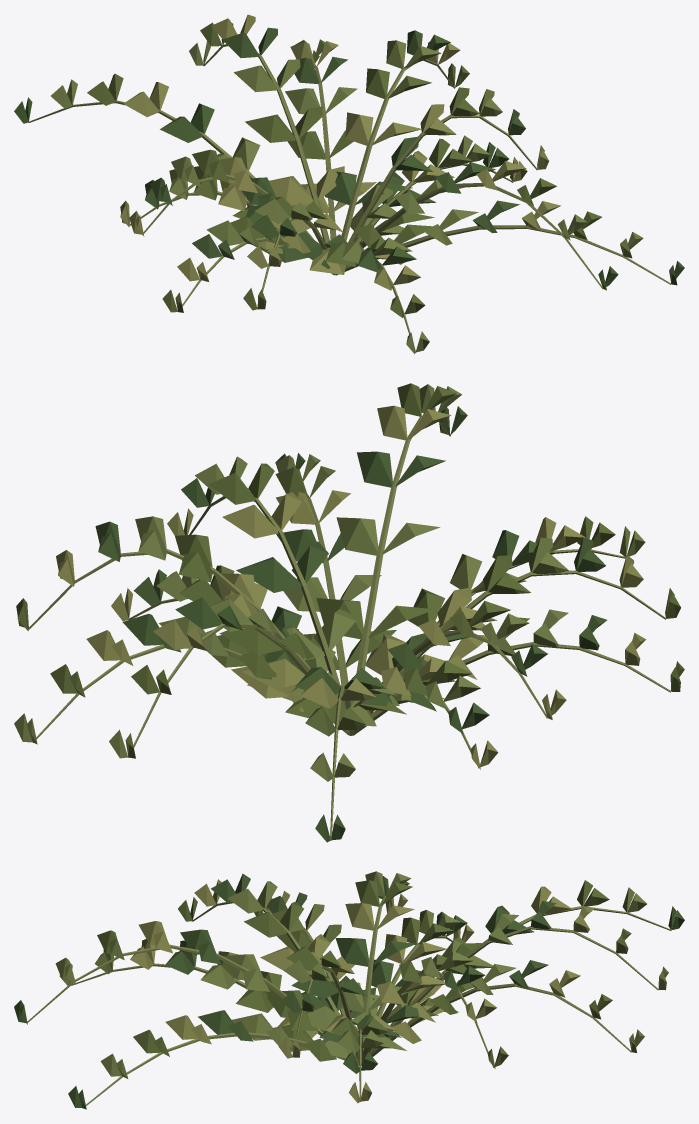
Rendered from understory.glb.
3 renders of one model, top to bottom at view 1: azimuth 30°, elevation 25°; view 2: azimuth 150°, elevation 25°; view 3: azimuth 270°, elevation 25°, orthographic. The views are drawn at different scales.
Parts seen in each view (by area): view 1: forest fern cluster; view 2: forest fern cluster; view 3: forest fern cluster.
Part boxes in pixels (box(x1,y1,x2,y2)): forest fern cluster: box(14, 14, 684, 354); forest fern cluster: box(14, 383, 684, 842); forest fern cluster: box(14, 871, 684, 1109).
Bounding box in the file's own units: 1.67 × 0.6492 × 2.38.
